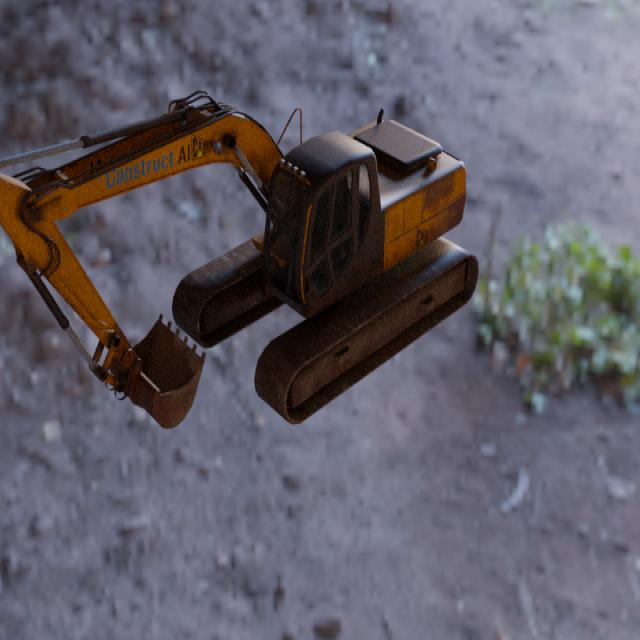excavator: (0, 90, 480, 430)
